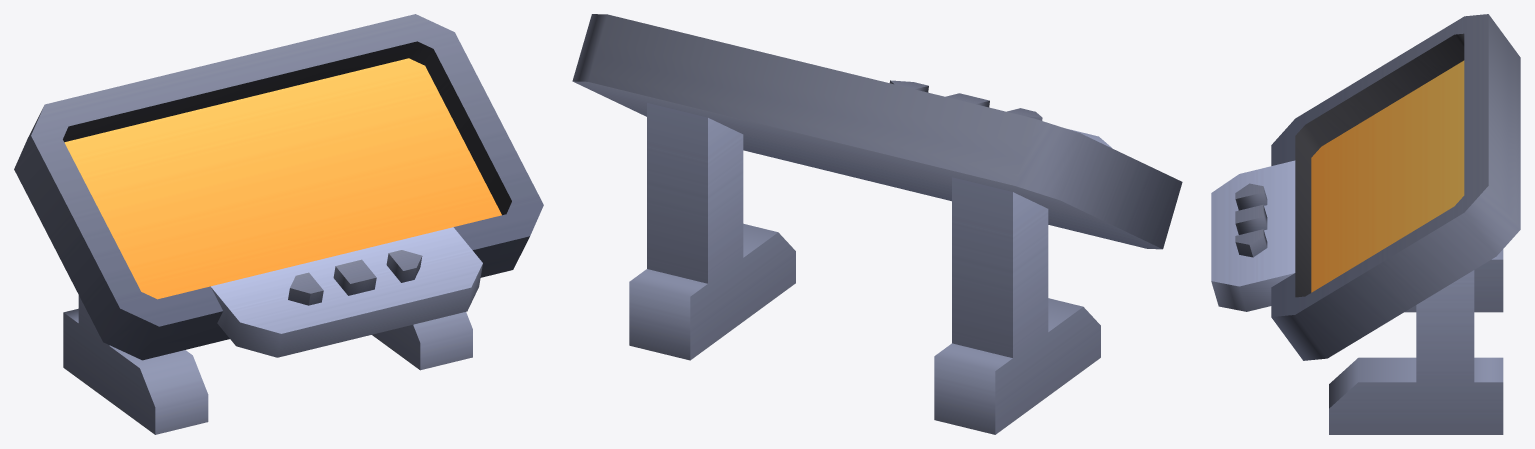
Rendered from computer-wide.obj.
3 views of the same model, side by side, from view 1: azimuth 30°, elevation 25°; view 2: azimuth 150°, elevation 25°; view 3: azimuth 270°, elevation 25° (orthographic). The views are drawn at different scales.
Parts seen in each view (by area): view 1: computer-wide; view 2: computer-wide; view 3: computer-wide.
Part boxes in pixels (box(x1,y1,x2,y2)): computer-wide: box(14, 14, 543, 434); computer-wide: box(572, 14, 1182, 434); computer-wide: box(1211, 14, 1520, 434).
Bounding box in the file's own units: 0.8 × 0.4968 × 0.5332.
1 material, 1 textured.
